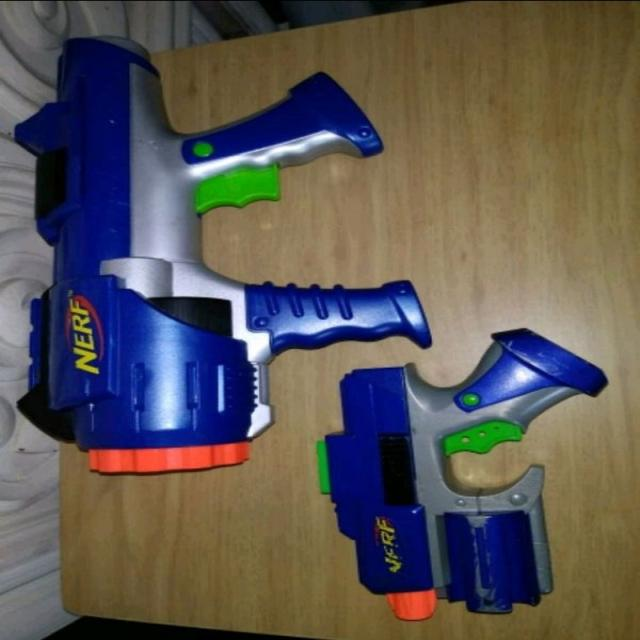Nerf gun: (6, 31, 438, 481), (306, 324, 616, 625)
